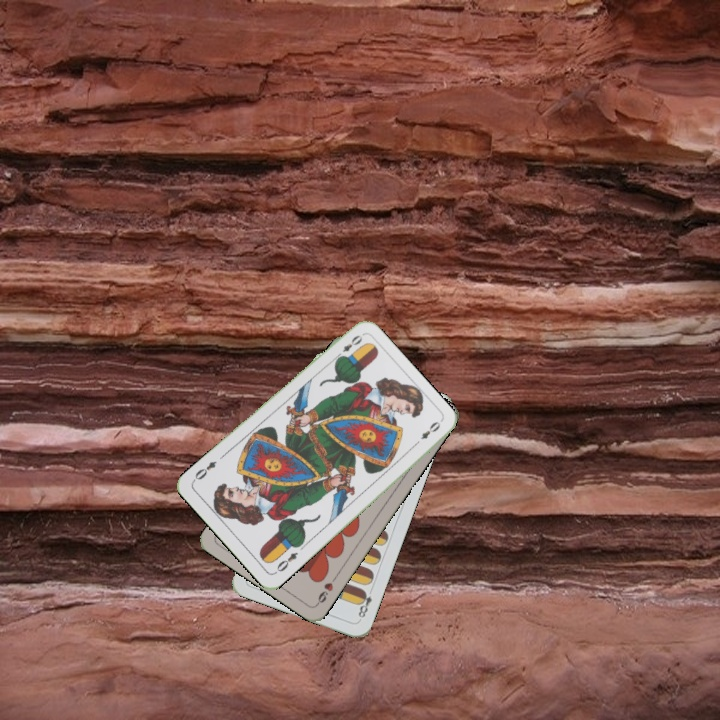E8: (354, 584, 376, 622)
EO: (331, 331, 365, 362), (271, 548, 300, 576)
H9: (312, 571, 340, 607)
